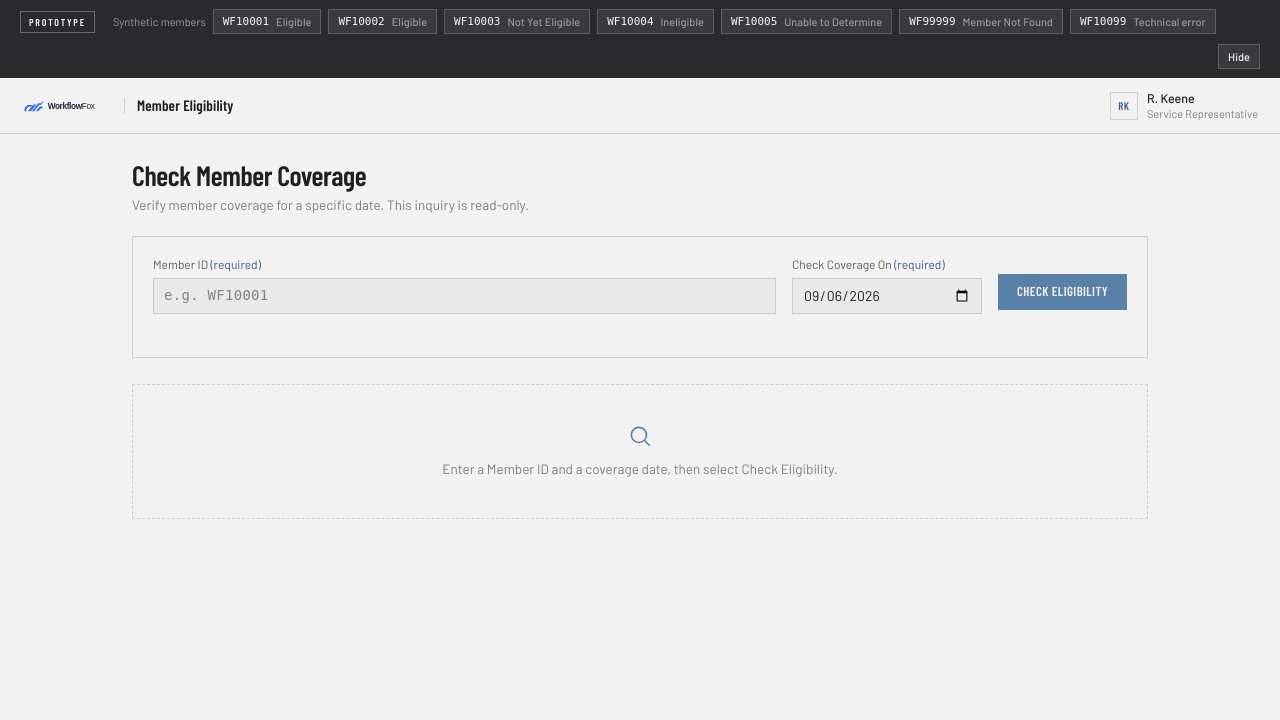
it: Member Eligibility app › renders a MEMBER_NOT_FOUND result as a normal business outcome
The image size is (1280, 720).
In the field labelled "Member ID (required)": point(464, 296) [153,278,776,314], type "WF99999"
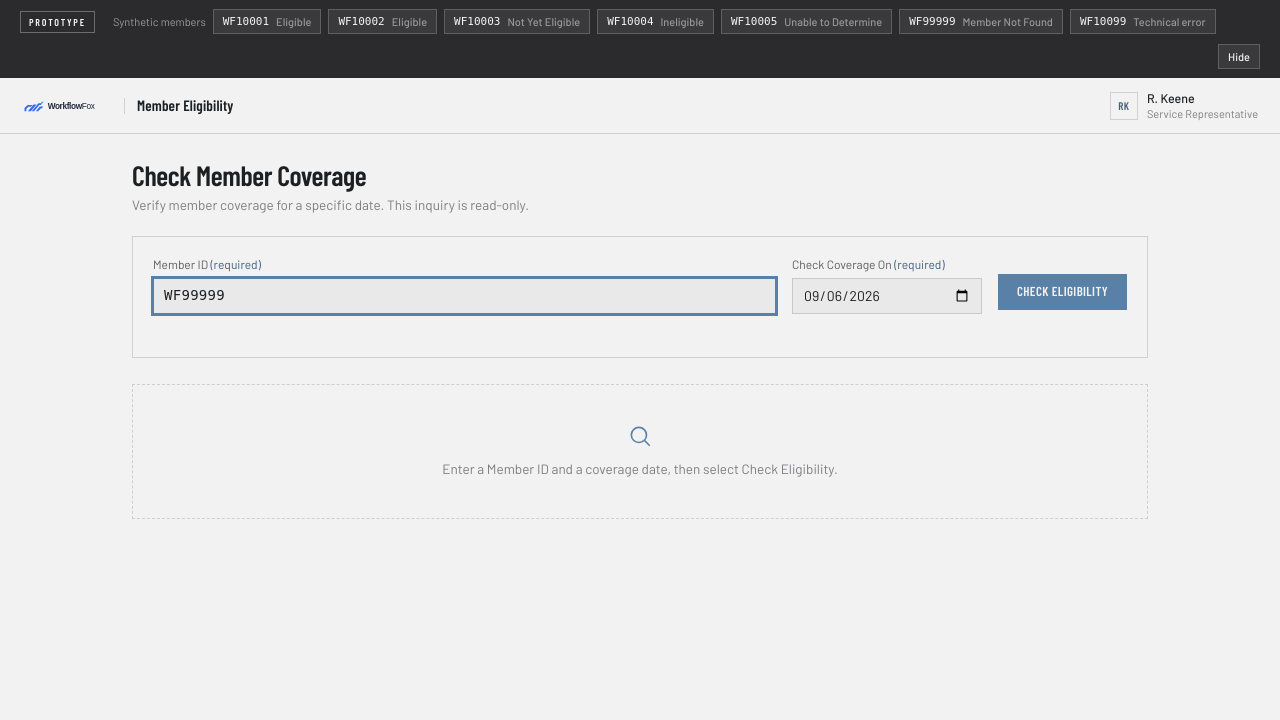
In the date field labelled "Check Coverage On (required)": point(887, 296) [792,278,982,314], type "2026-09-03"
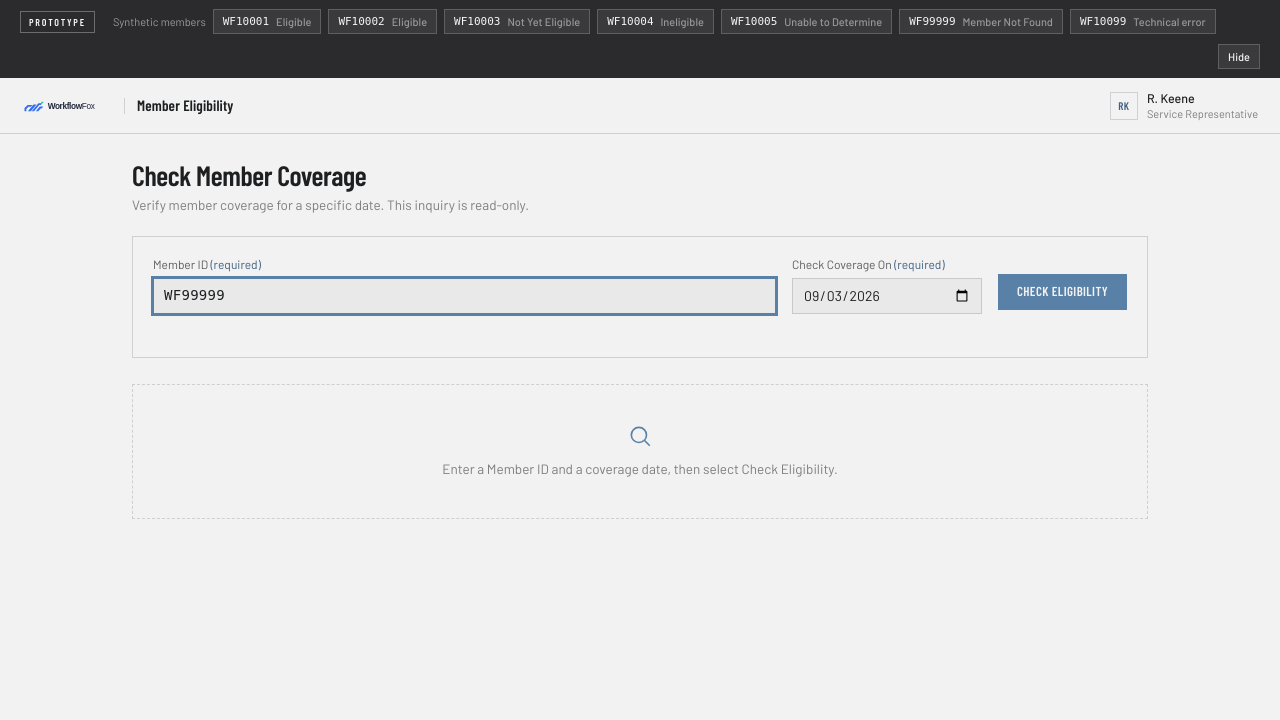
Click the button "Check Eligibility": point(1062, 292) [998,274,1127,310]
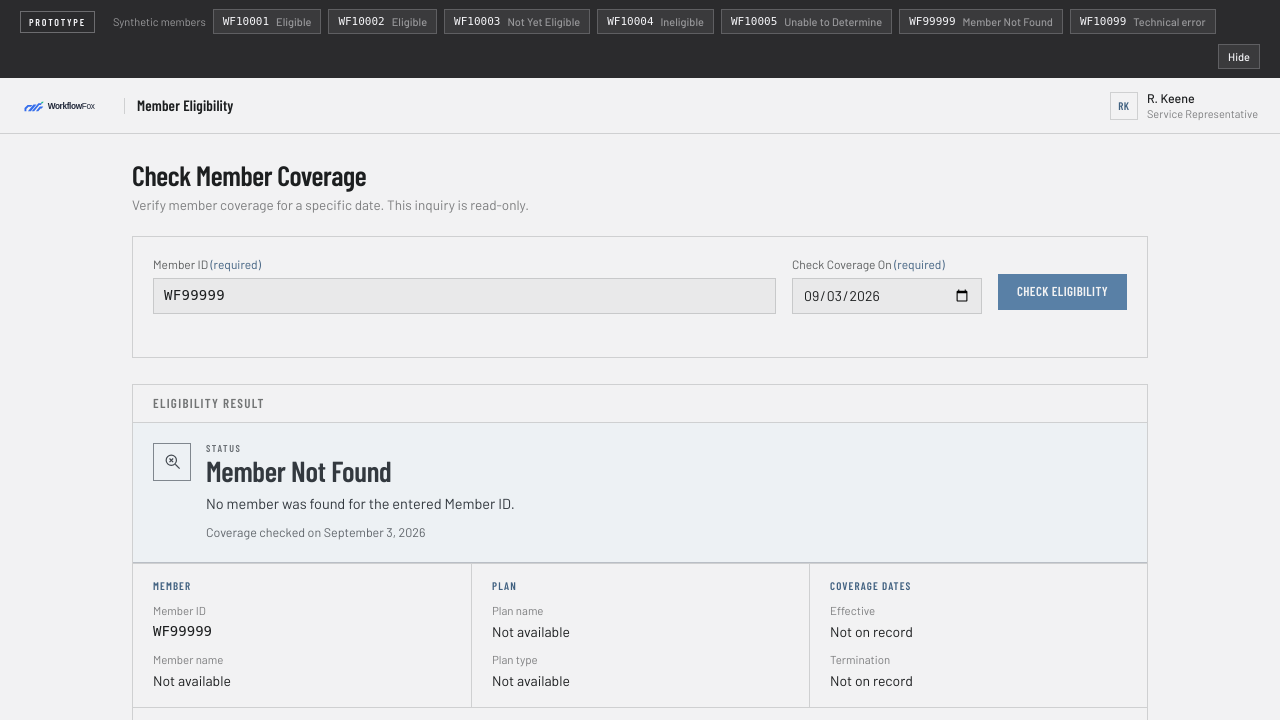
Expected: the heading "Member Not Found" is shown, [206,453,392,488]
Expected: the text "No member was found for the entered Member ID." is shown, [206,492,515,515]
